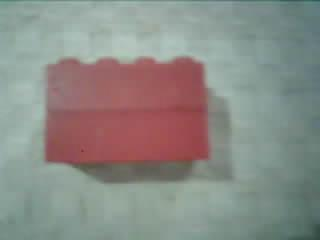lego: (43, 55, 211, 166)
